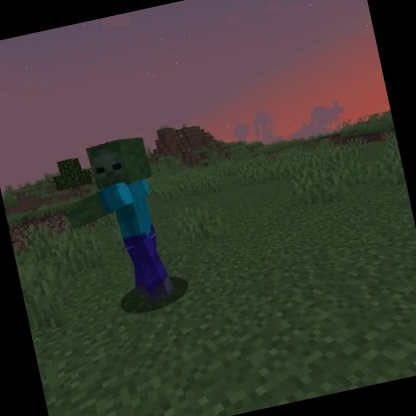zombie: (49, 131, 184, 321)
